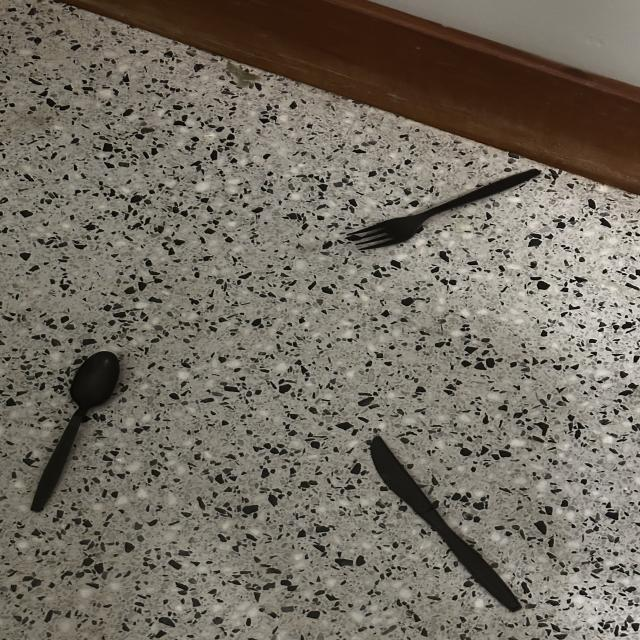fork: (288, 136, 577, 262)
knife: (336, 390, 532, 630)
spoon: (15, 314, 150, 530)
